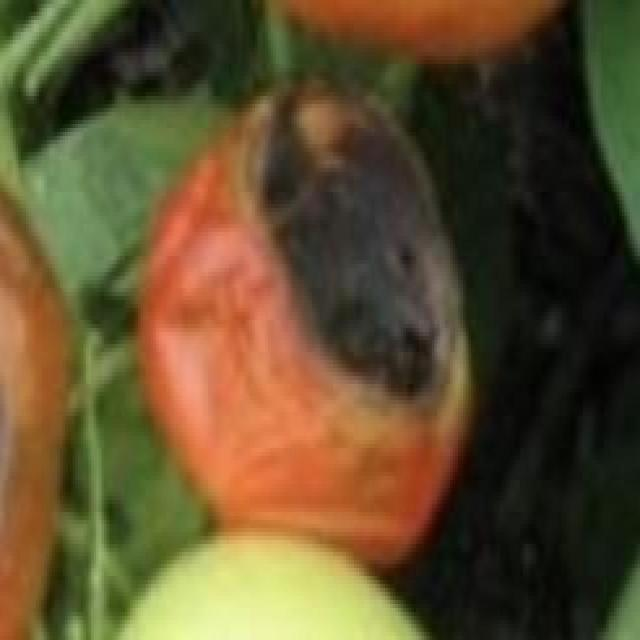Blossom End Rot Fruit: (160, 43, 304, 272)
